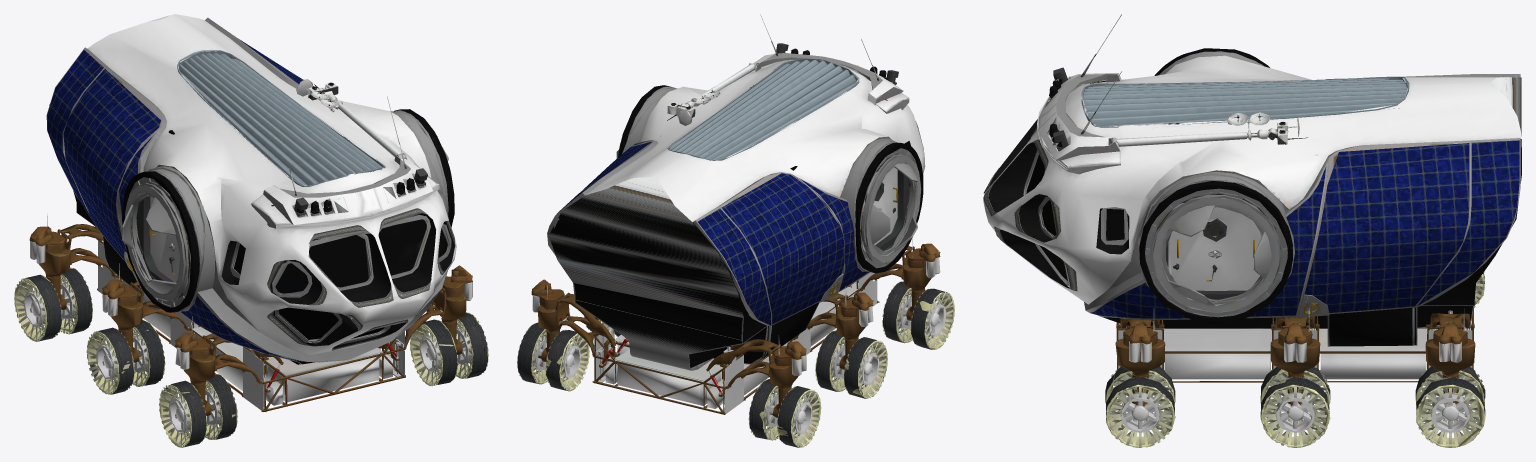
The model's file is sev.glb.
3 renders of one model, left to right at view 1: azimuth 30°, elevation 25°; view 2: azimuth 150°, elevation 25°; view 3: azimuth 270°, elevation 25°, orthographic. The views are drawn at different scales.
Visible parts, largest first — view 1: MMSEV; view 2: MMSEV; view 3: MMSEV.
Part boxes in pixels (<box>): MMSEV: <box>14,14,488,447</box>; MMSEV: <box>517,14,954,447</box>; MMSEV: <box>983,14,1521,447</box>.
Size of the model in its own units: 4.04 by 3.97 by 5.91.
Materials: 1 (1 with a texture image).
